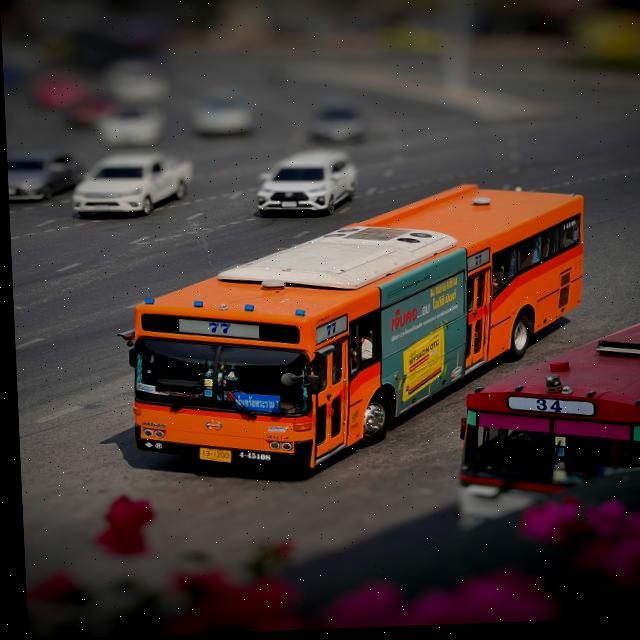BMTA-bus: (115, 185, 594, 479)
Bus-Line-Number: (196, 319, 232, 339), (315, 320, 343, 343)
Destination-Sign-Normal: (225, 392, 279, 418)
